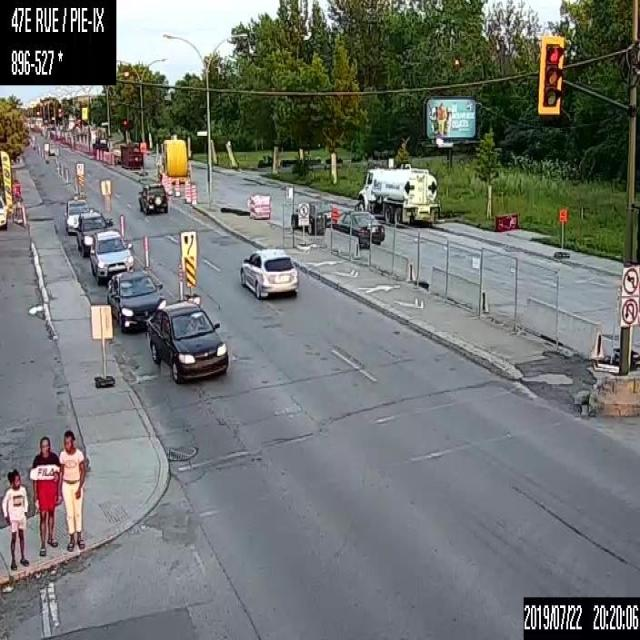construction: (177, 262, 184, 301), (144, 235, 150, 269), (190, 182, 197, 205), (184, 179, 190, 202), (166, 176, 171, 194), (174, 177, 179, 195), (119, 214, 123, 236)
pedestrian: (28, 431, 61, 558), (58, 428, 85, 556), (1, 466, 29, 570)
vehicle: (146, 302, 229, 385), (353, 164, 441, 225), (107, 269, 169, 334), (239, 247, 299, 301), (91, 231, 136, 282), (326, 210, 385, 248), (290, 199, 340, 233), (77, 210, 109, 253), (138, 178, 168, 214), (64, 196, 90, 233), (47, 139, 60, 156), (0, 194, 6, 226)
